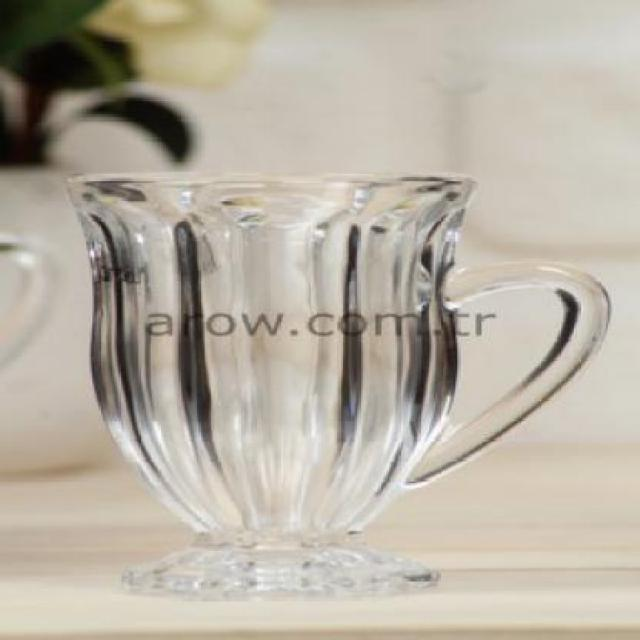taza: (61, 170, 618, 542)
